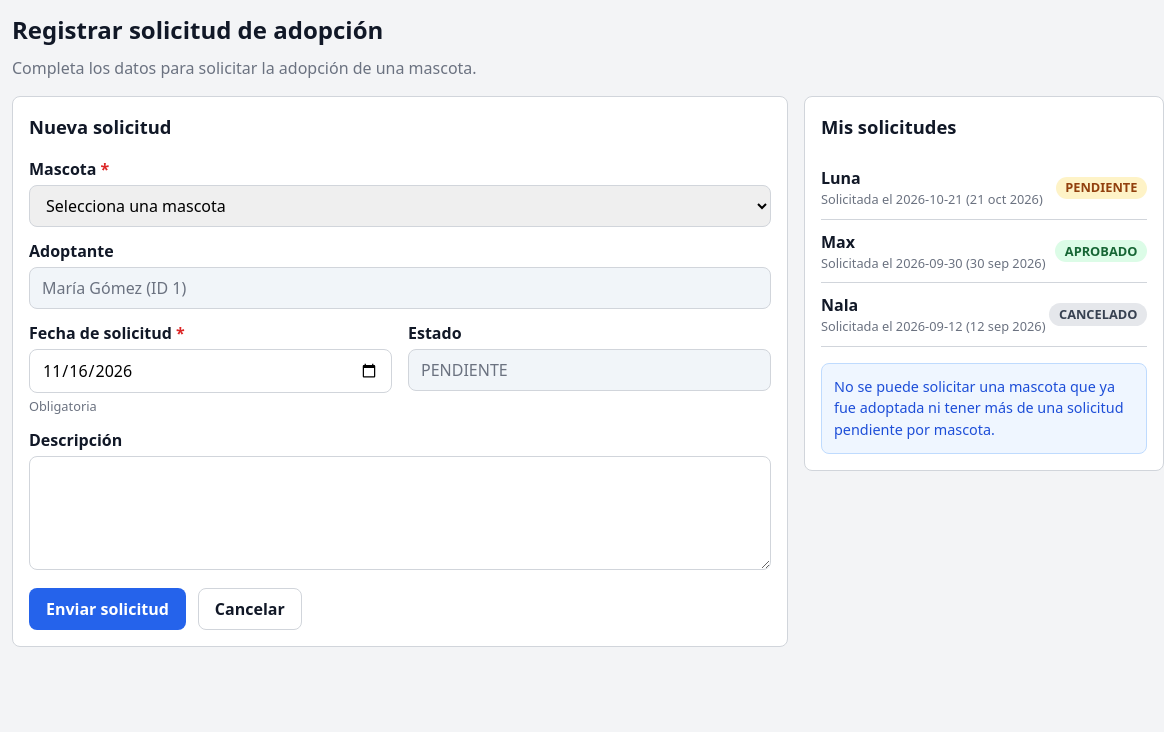
AdoptionRequestPage (HU02) › sends no pet when none is selected and shows the reason
Click the button "Enviar solicitud": (107, 609) [29, 588, 186, 630]
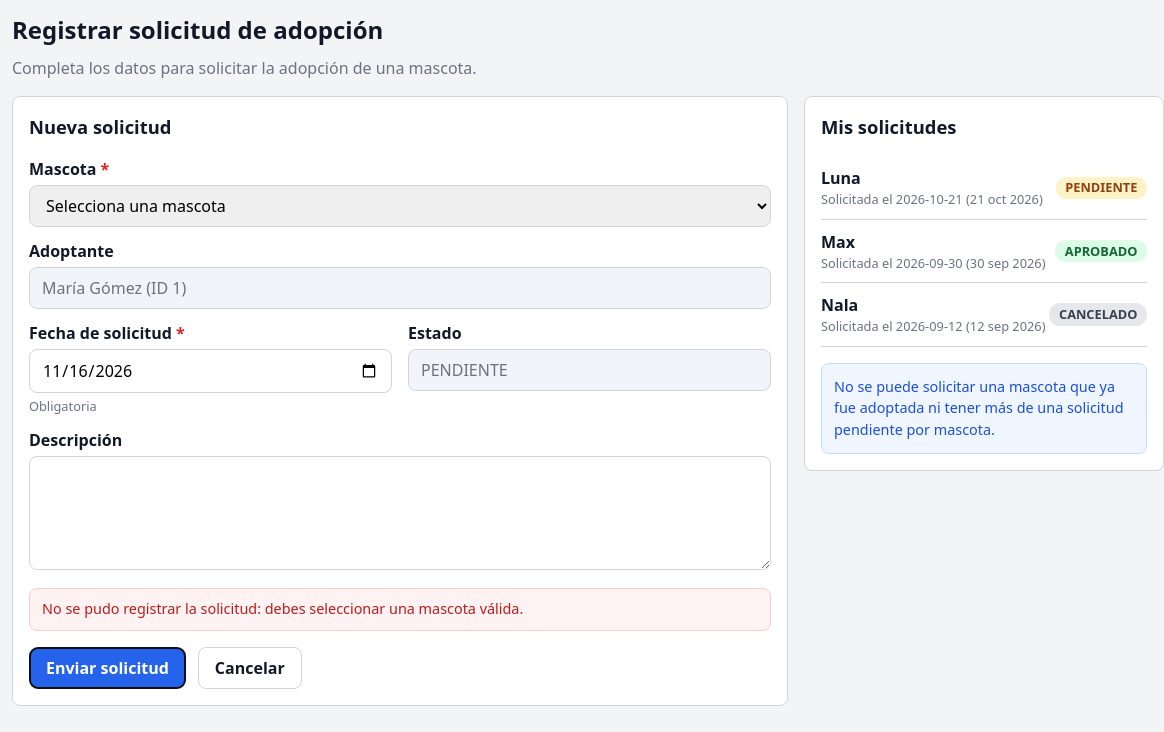
expect the message shows "debes seleccionar una mascota válida": met, box [42, 599, 523, 618]
